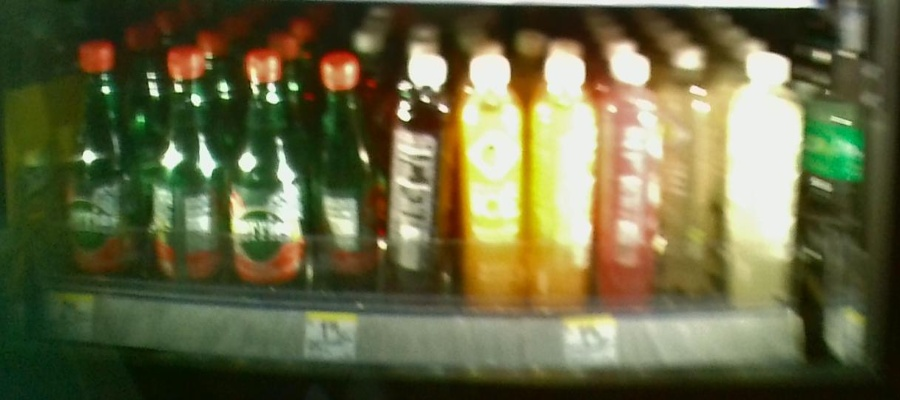bottle: (728, 48, 803, 301), (229, 55, 306, 297), (145, 42, 220, 283), (62, 39, 138, 273), (531, 50, 598, 310), (460, 50, 526, 307), (386, 55, 456, 297), (311, 48, 378, 290), (603, 49, 665, 308), (669, 49, 720, 301)
